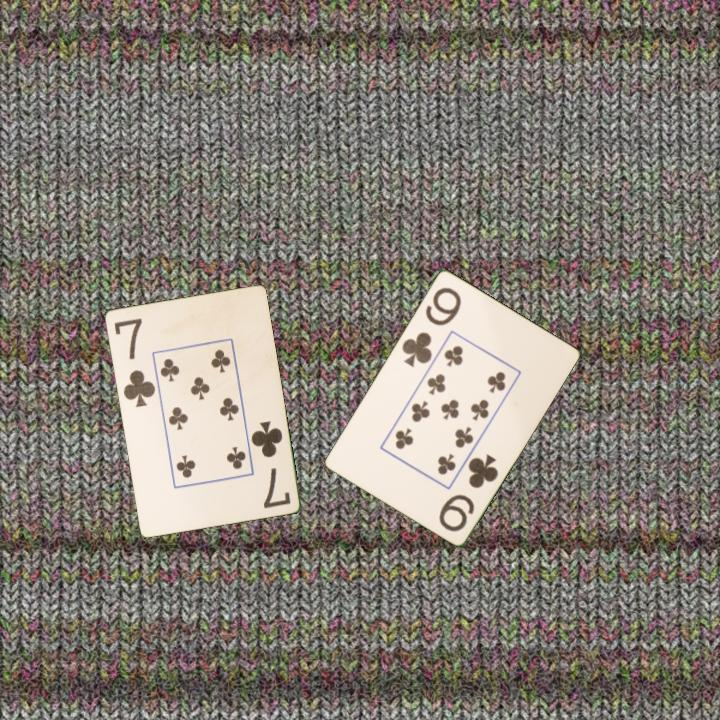7c: (110, 315, 158, 410), (247, 417, 293, 511)
9c: (398, 283, 464, 370), (435, 450, 501, 534)
